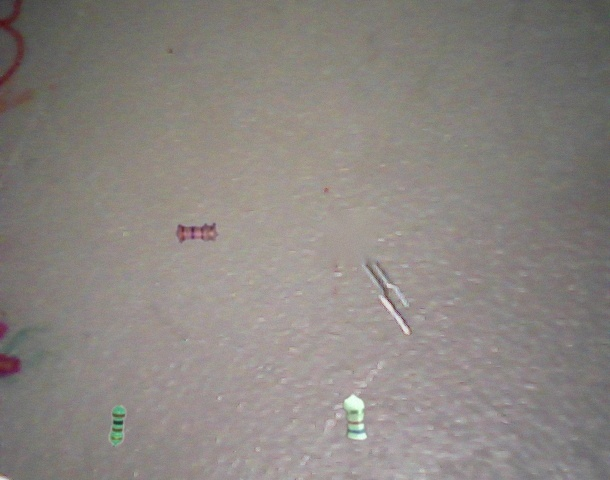resistor: (343, 394, 368, 441), (176, 223, 218, 243), (109, 405, 126, 448)
